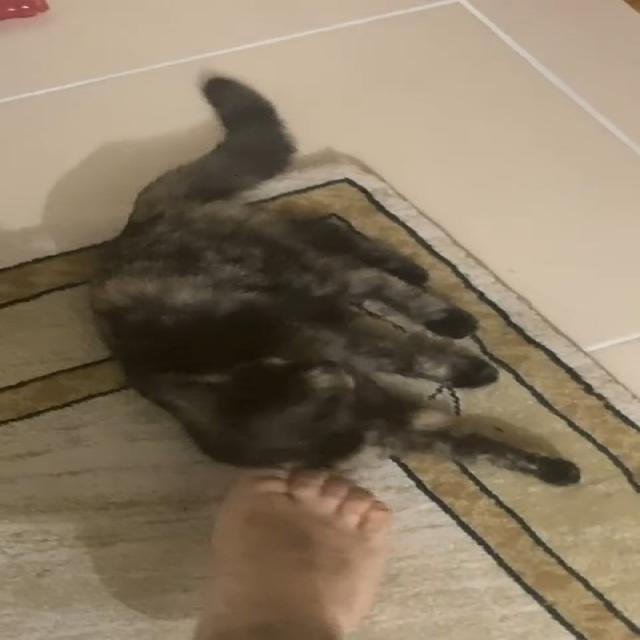authorized: (84, 73, 583, 487)
